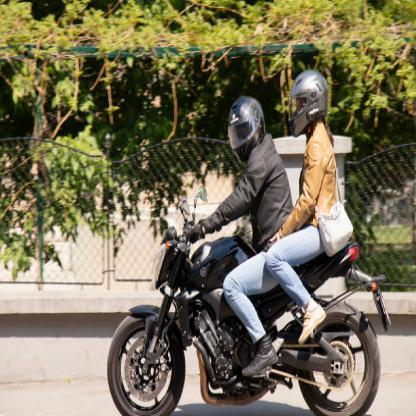Motorcycle: (98, 193, 397, 415)
